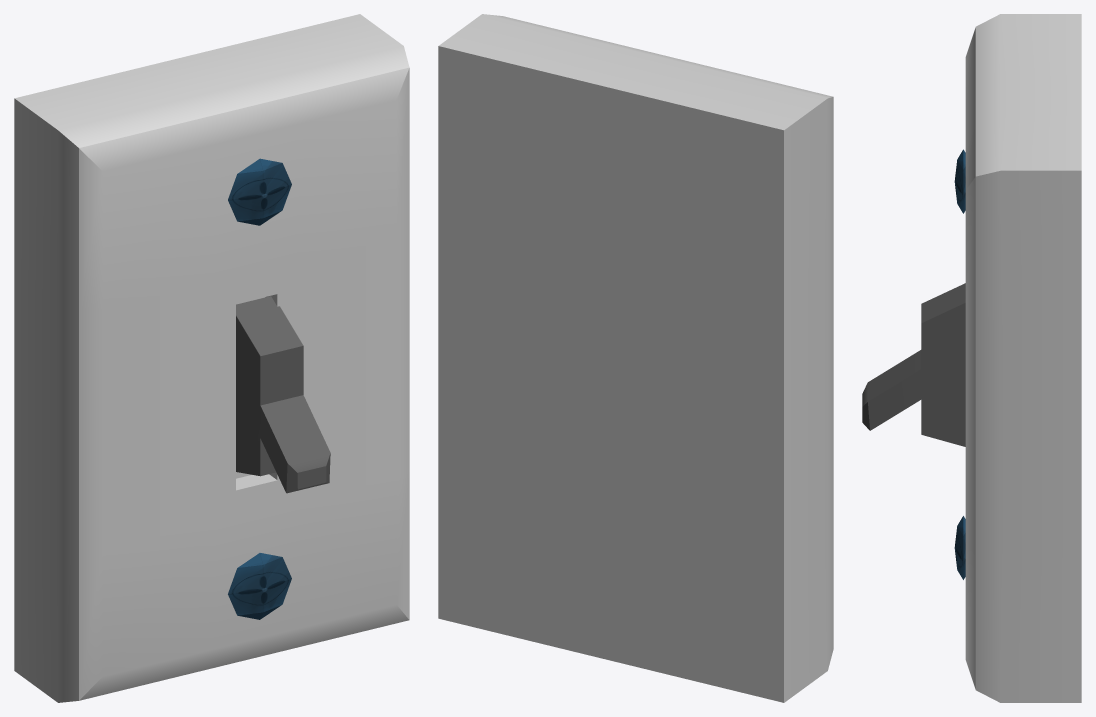
Rendered from Light Switch.fbx.
The picture shows the model from 3 angles, left to right: view 1: azimuth 30°, elevation 25°; view 2: azimuth 150°, elevation 25°; view 3: azimuth 270°, elevation 25°; orthographic projection. The views are drawn at different scales.
Visible parts, largest first — view 1: pCube2, pCube3, pSphere1, pSphere4; view 2: pCube2; view 3: pCube2, pCube3, pSphere1, pSphere4.
Part boxes in pixels (box(x1,y1,x2,y2)): pCube2: box(14, 14, 409, 702); pCube3: box(236, 296, 330, 493); pSphere1: box(228, 158, 291, 225); pSphere4: box(228, 553, 291, 619); pCube2: box(438, 14, 833, 702); pCube2: box(965, 14, 1081, 702); pCube3: box(862, 283, 965, 446); pSphere1: box(954, 149, 965, 213); pSphere4: box(954, 516, 965, 579).
Bounding box in the file's own units: 0.6673 × 1.06 × 0.3947.
